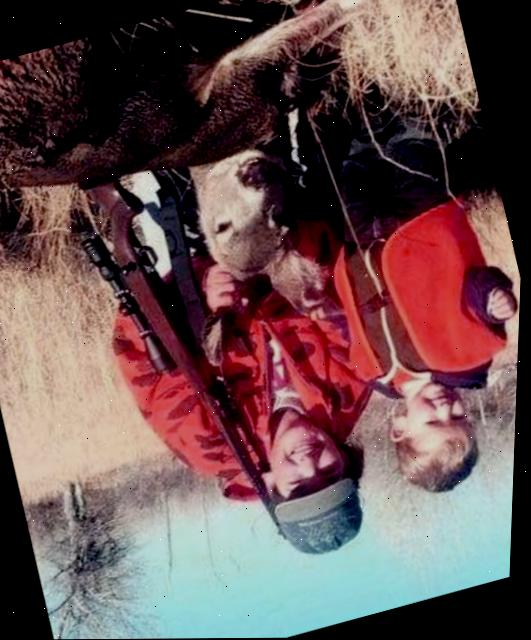rifle: (50, 149, 322, 592)
